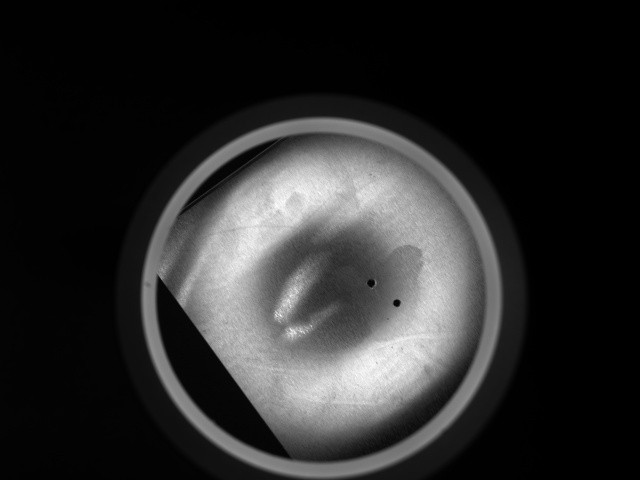zhen_kong: (363, 275, 381, 291), (390, 296, 404, 309)
